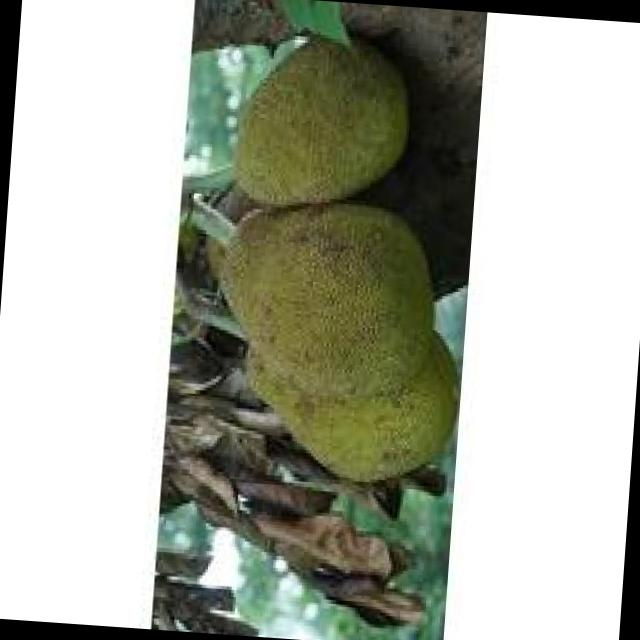Fruit: (183, 179, 472, 514), (222, 18, 428, 228)
